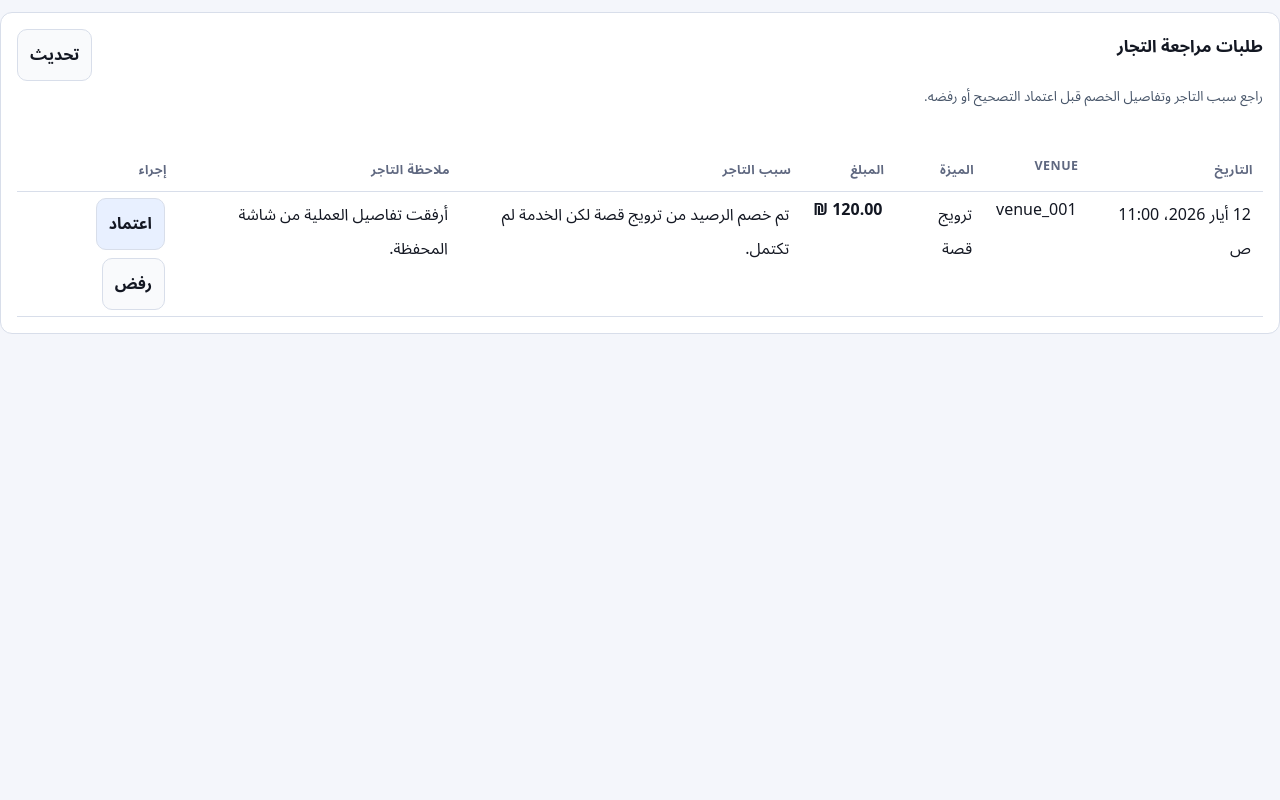
Test: MerchantReversalReviewPanel › opens approve modal
Click the button with aria-label "اعتماد طلب مراجعة merchant_review_entry-001" at (130, 224), box 96,198 -> 165,250
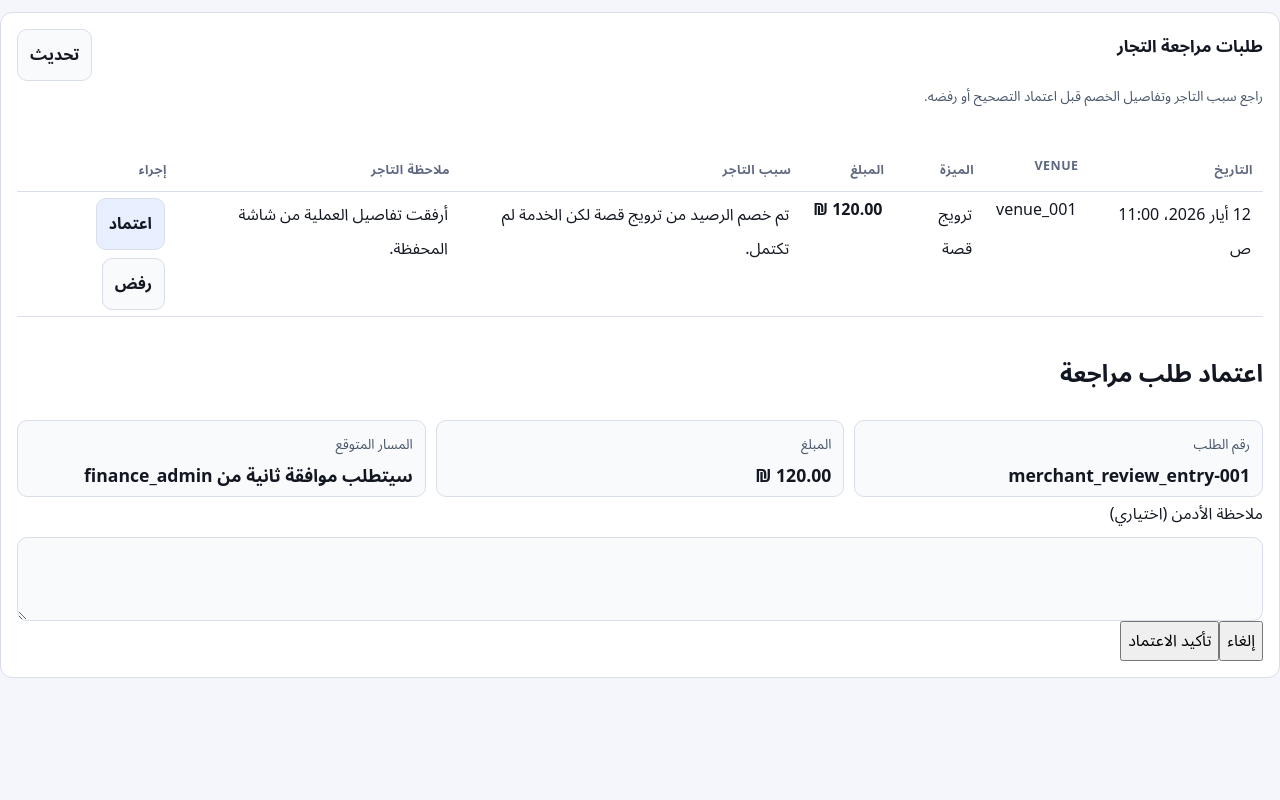
Now the dialog is shown, box 17,349 -> 1263,661
Now the heading "اعتماد طلب مراجعة" is shown, box 1060,356 -> 1263,389
